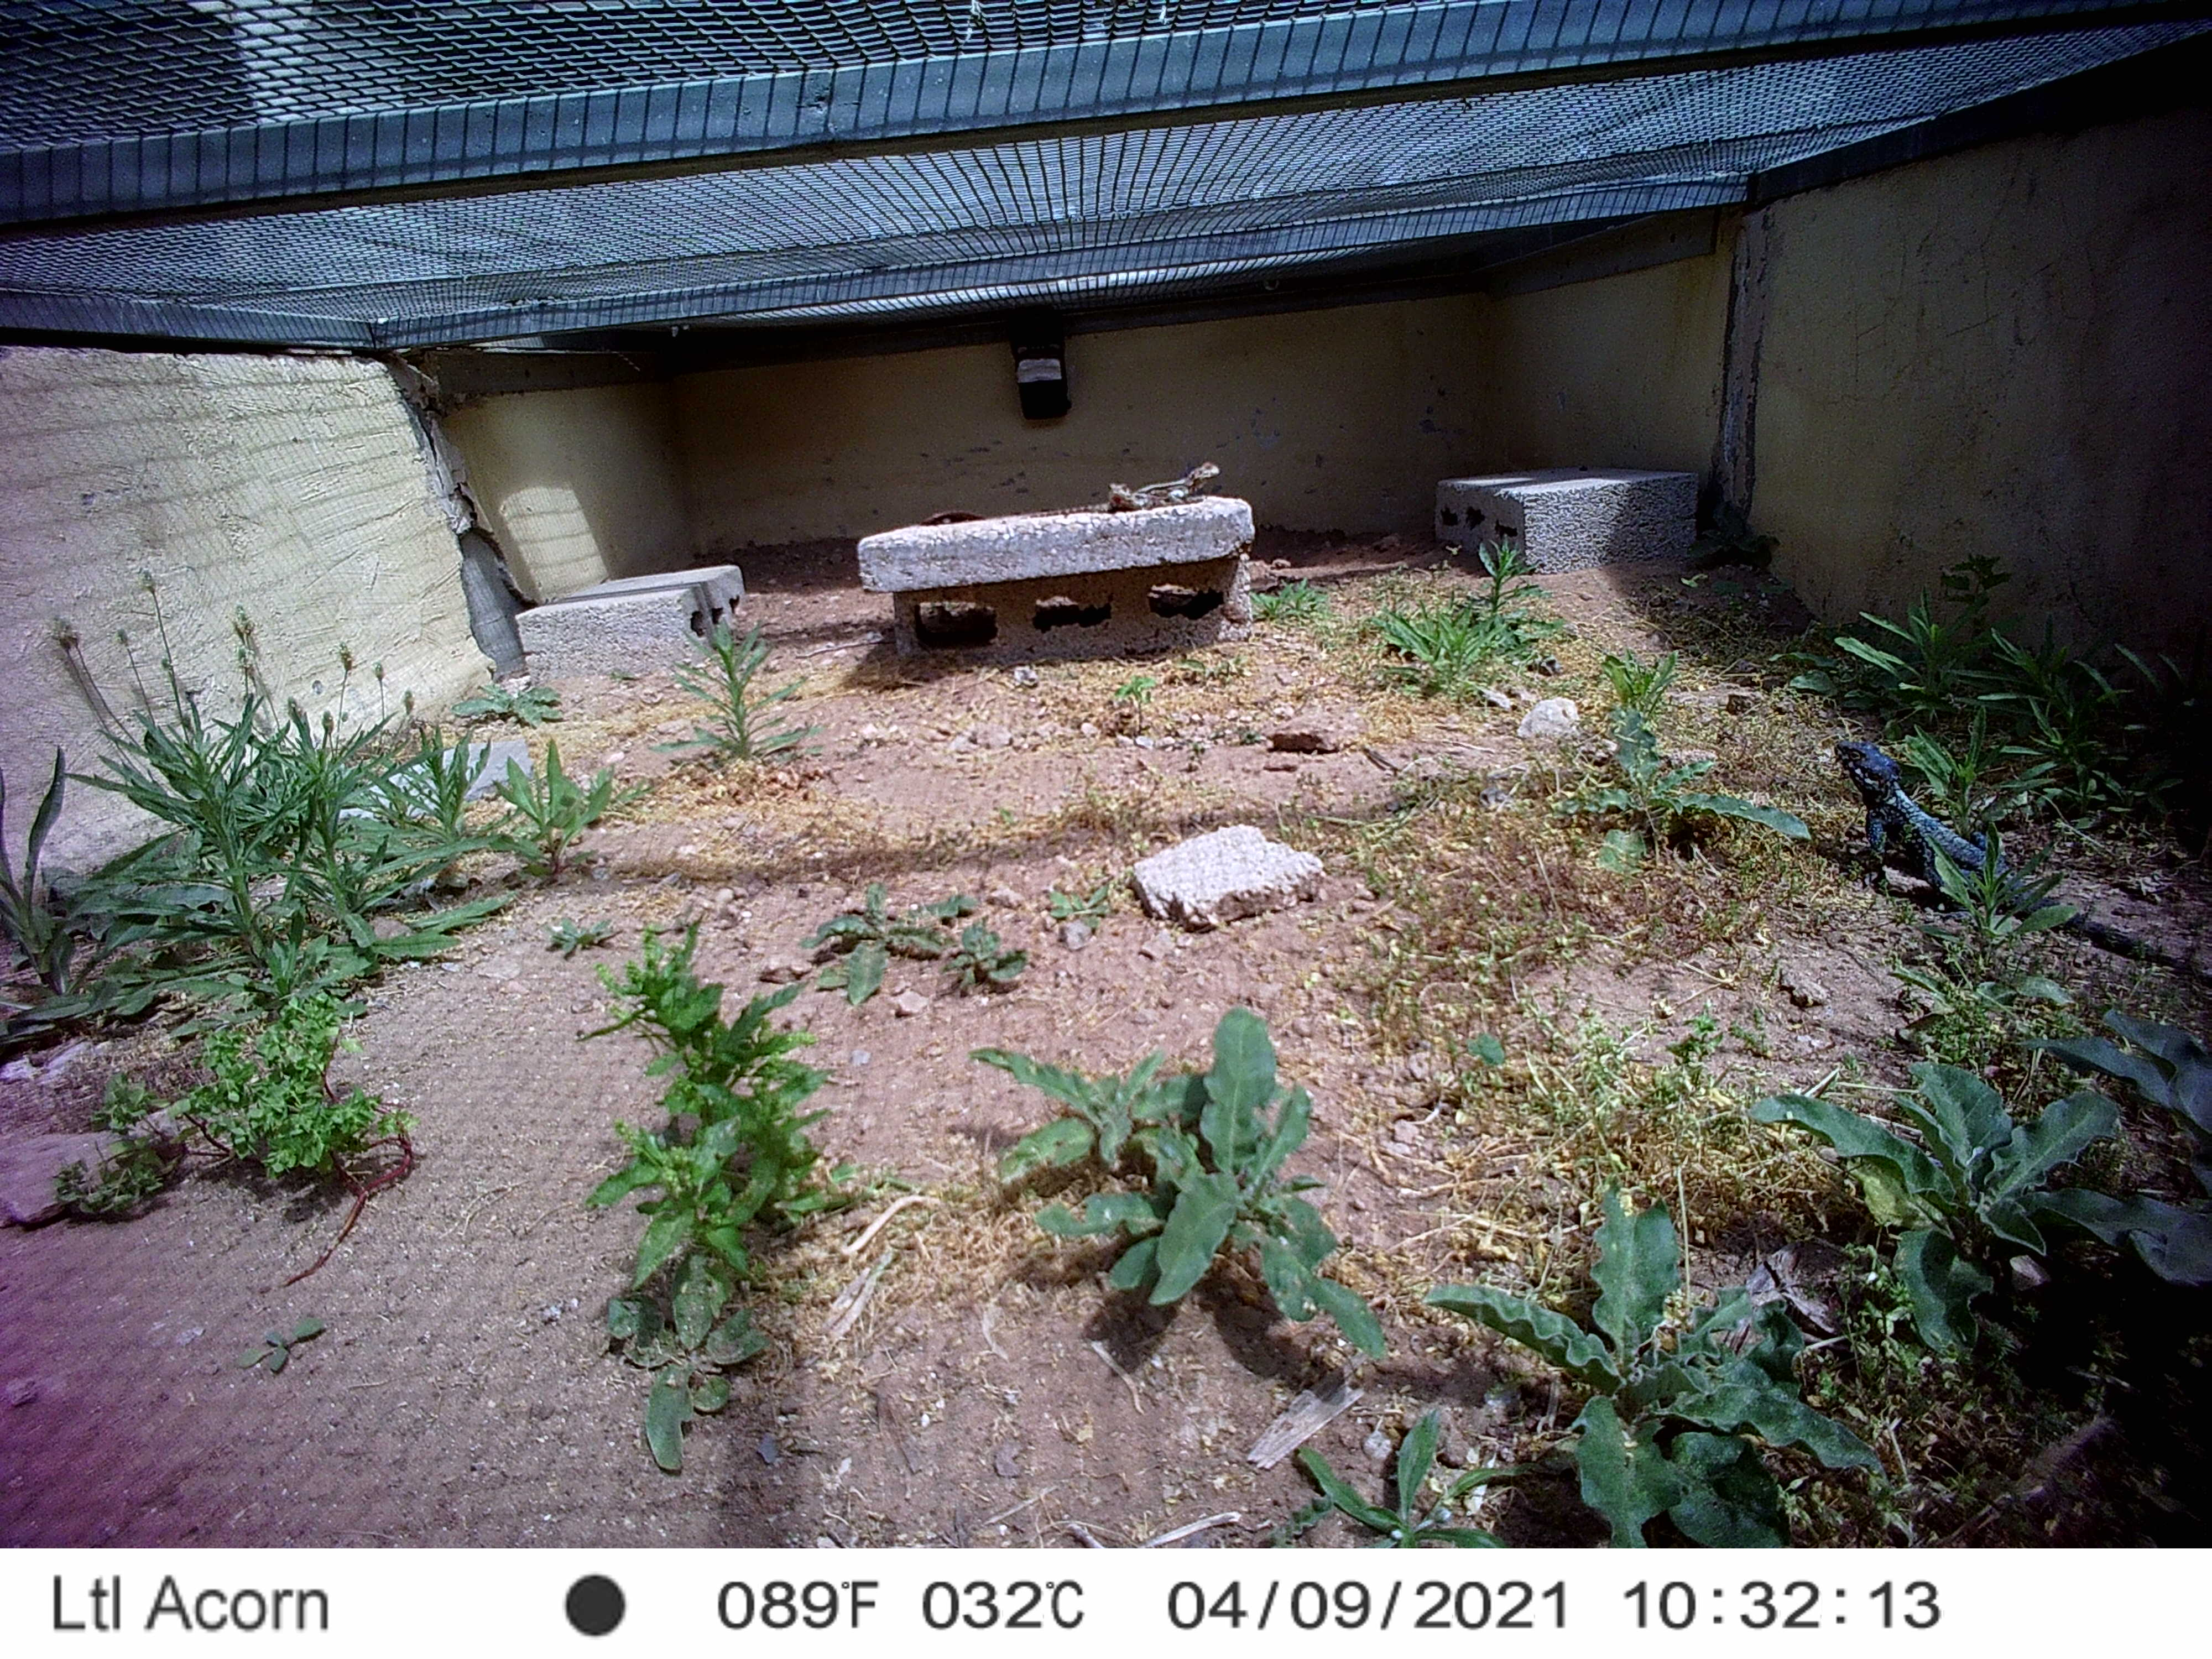lizard: (1829, 735, 2195, 974), (1042, 458, 1223, 516)
